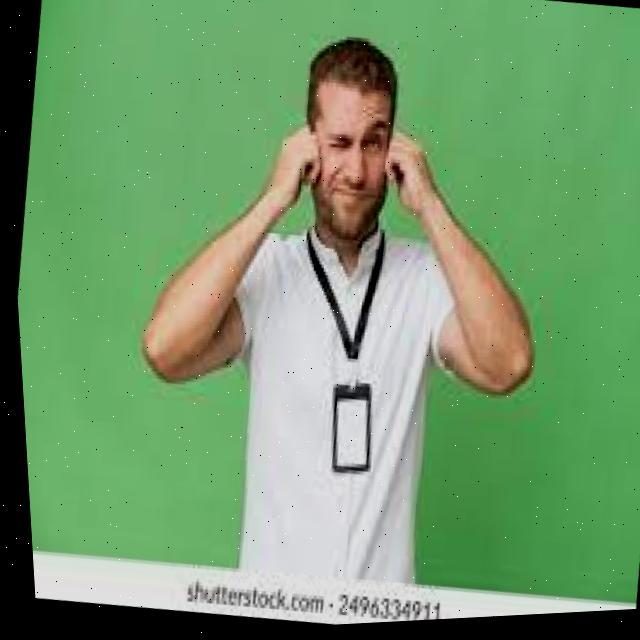id_card: (265, 221, 411, 490)
